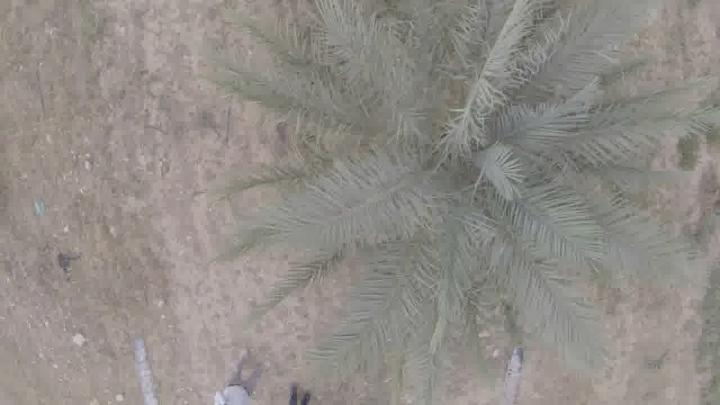Date-Palm-Crown: (332, 15, 596, 310)
